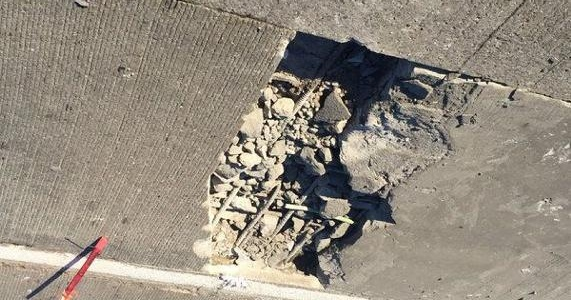pothole: (195, 27, 427, 293)
